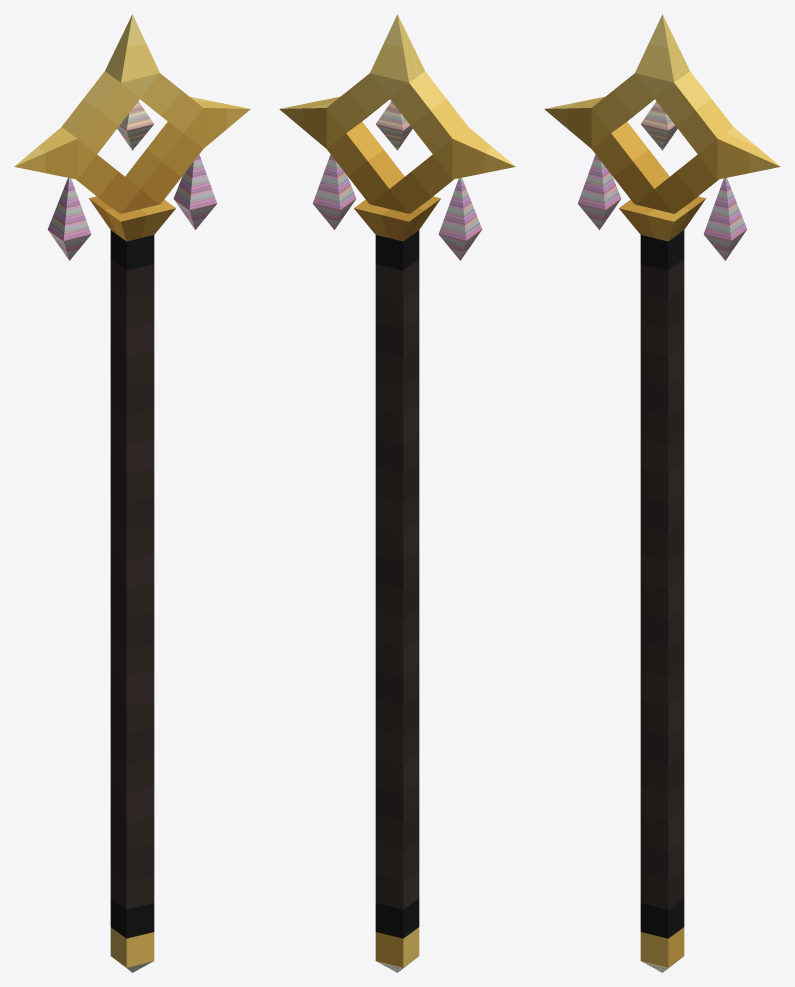
Rendered from staff_gold.obj.
The picture shows the model from 3 angles, left to right: view 1: azimuth 30°, elevation 25°; view 2: azimuth 150°, elevation 25°; view 3: azimuth 330°, elevation 25°; orthographic projection.
Visible parts, largest first — view 1: STAFF_VAR8_Cube.021; view 2: STAFF_VAR8_Cube.021; view 3: STAFF_VAR8_Cube.021.
Boxes of the visible parts, x1,y1,x2,y2 form: STAFF_VAR8_Cube.021: (14, 14, 250, 972); STAFF_VAR8_Cube.021: (279, 14, 515, 972); STAFF_VAR8_Cube.021: (544, 14, 780, 972).
Bounding box in the file's own units: 0.5335 × 2.06 × 0.125.
